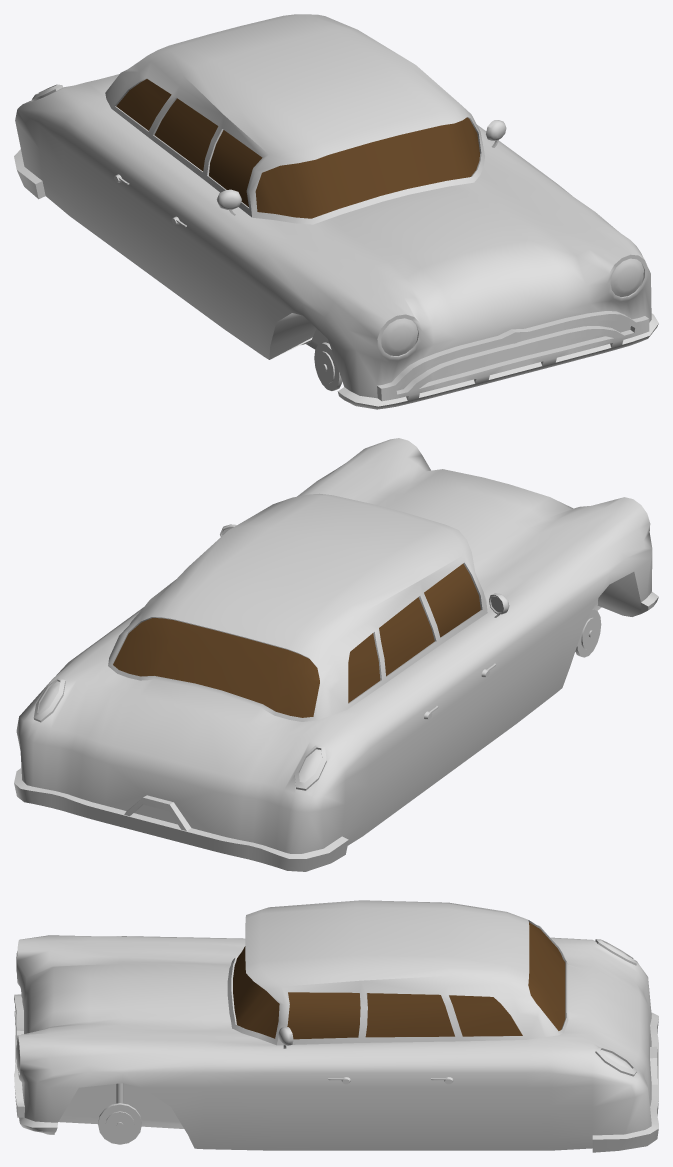
Rendered from hudson.fbx.
3 renders of one model, top to bottom at view 1: azimuth 30°, elevation 25°; view 2: azimuth 150°, elevation 25°; view 3: azimuth 270°, elevation 25°, orthographic. The views are drawn at different scales.
Parts seen in each view (by area): view 1: Cube; view 2: Cube; view 3: Cube.
Part boxes in pixels (x1,y1,x2,y2): Cube: (14, 14, 658, 409); Cube: (14, 438, 658, 871); Cube: (14, 900, 658, 1152).
Size of the model in its own units: 220 by 121 by 440.
